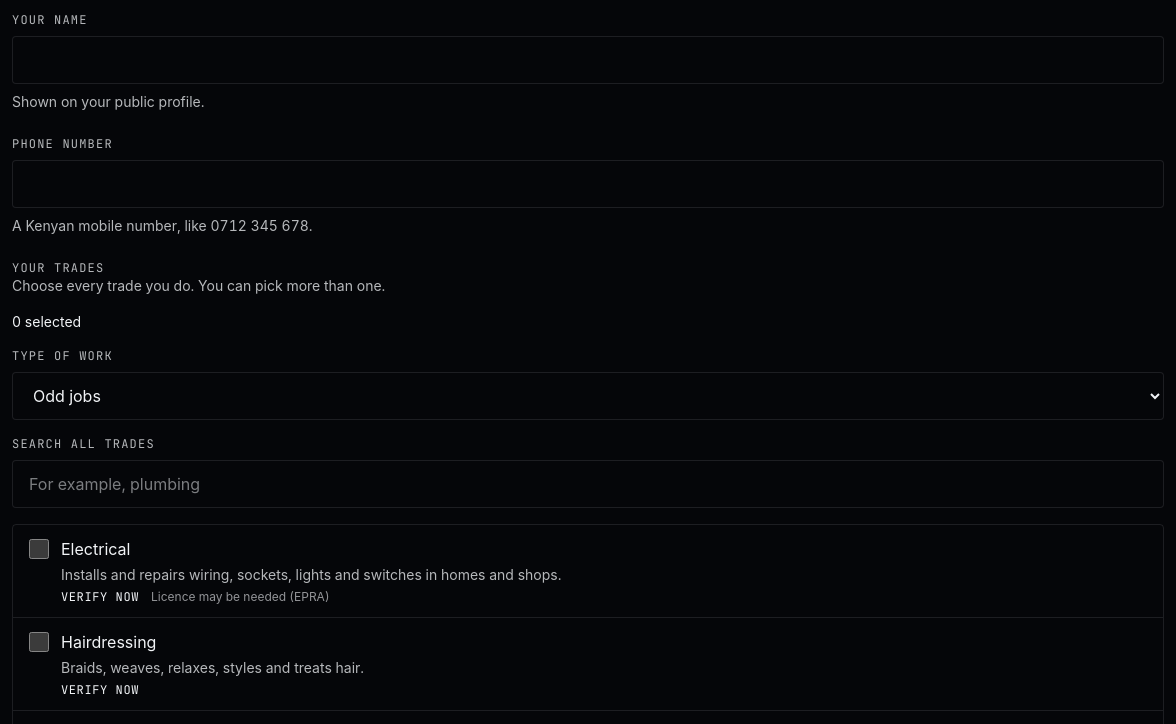
Scenario: OnboardingForm (#37, minimal Fundi profile) › the Trade picker (operator change 2: a type-of-work dropdown, not rows) › lists only the chosen type's Trades, each with its name and one-line description
Select "Odd jobs" in the dropdown labelled "Type of work": [588, 396] box [12,372,1164,420]
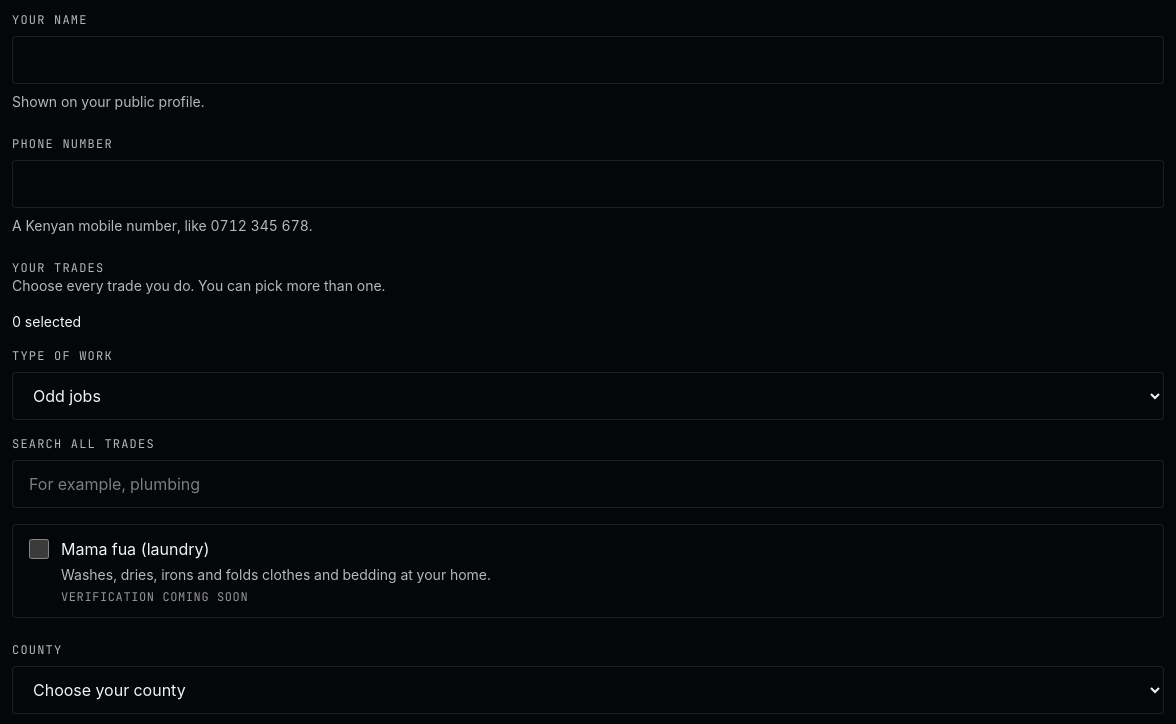
Now the text "Washes, dries, irons and folds clothes and bedding at your home." is shown, box [61,565,491,585]
